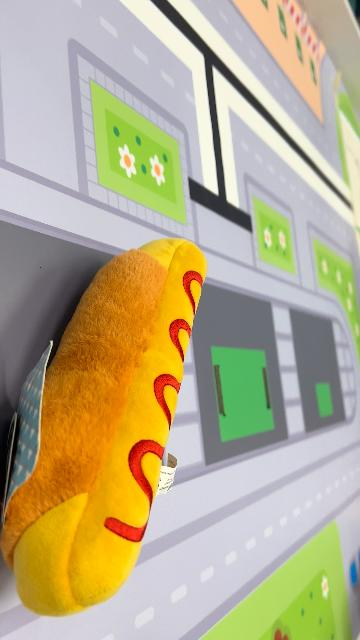hotdog: (3, 236, 209, 618)
